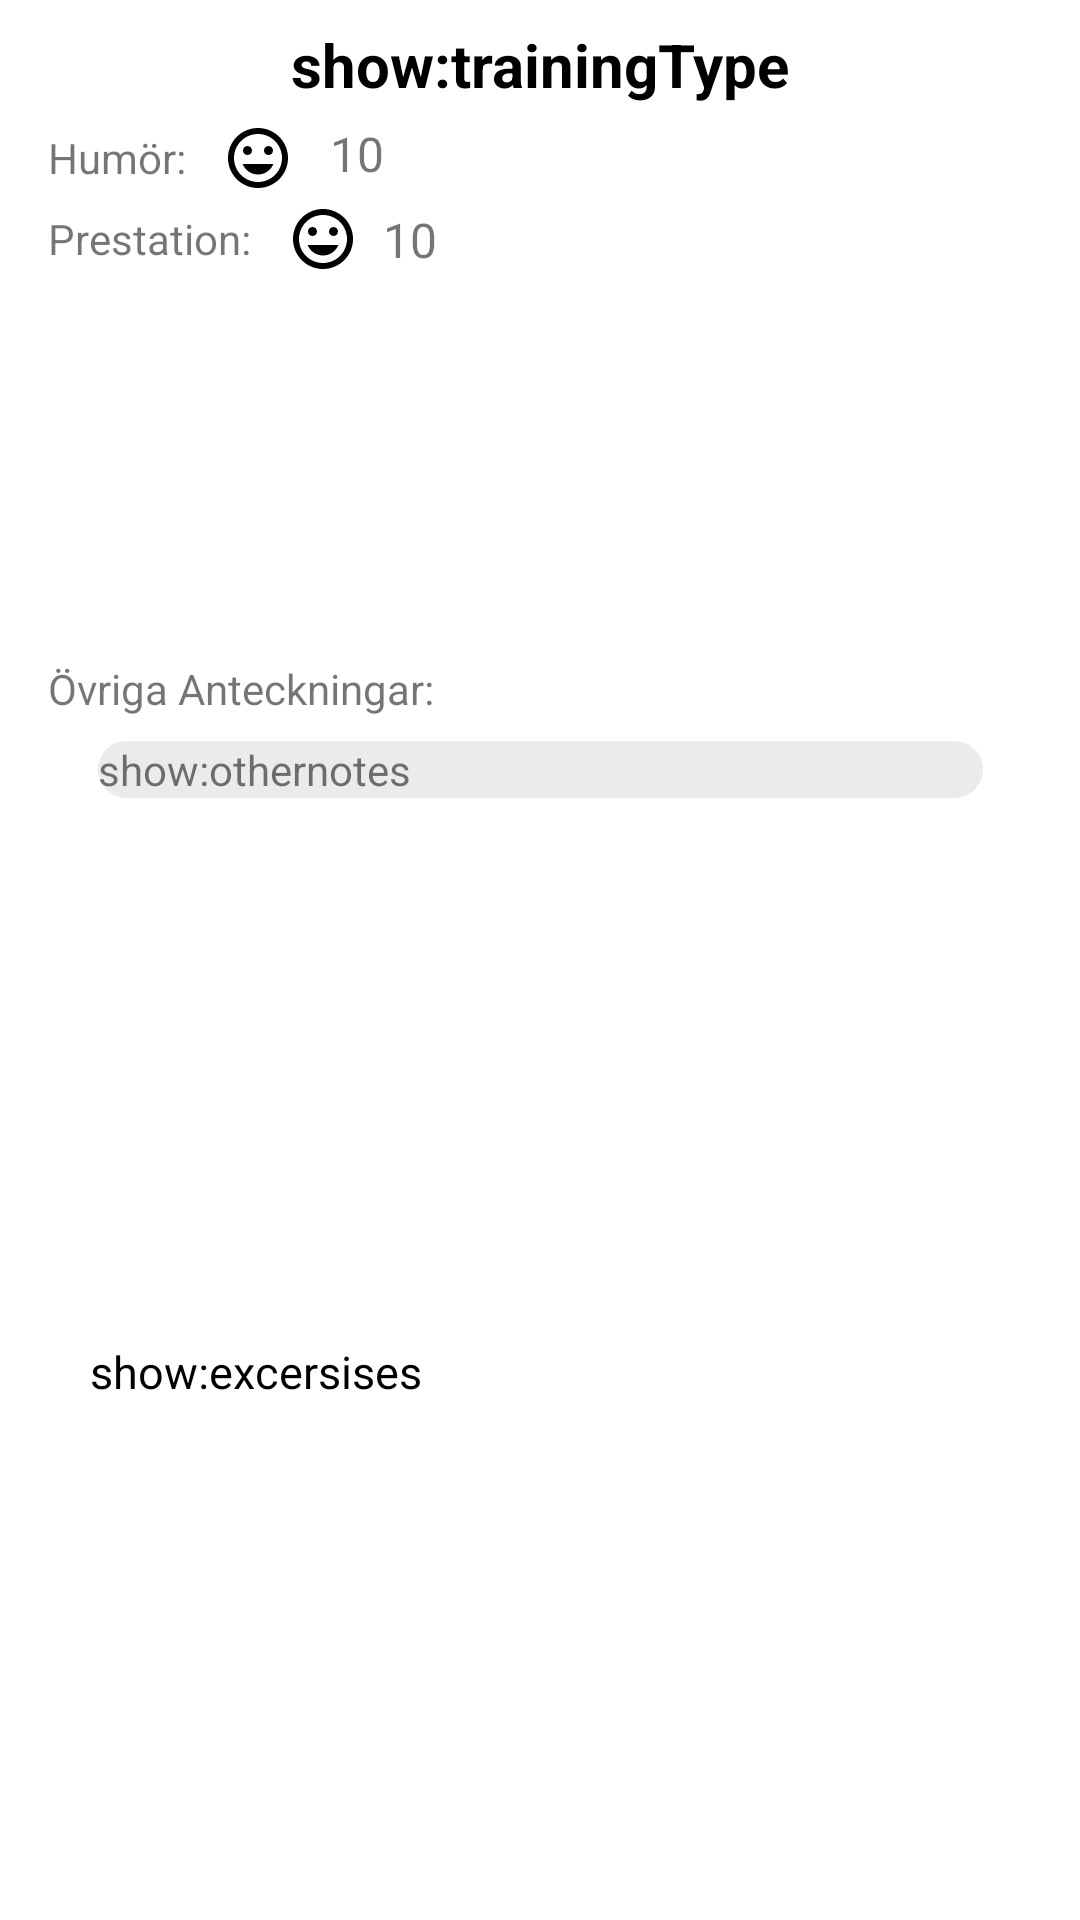

Icon click points for this 1080px x 1920px phone screenshot, format [x,y]:
tag faces: [258,158], [323,239]
